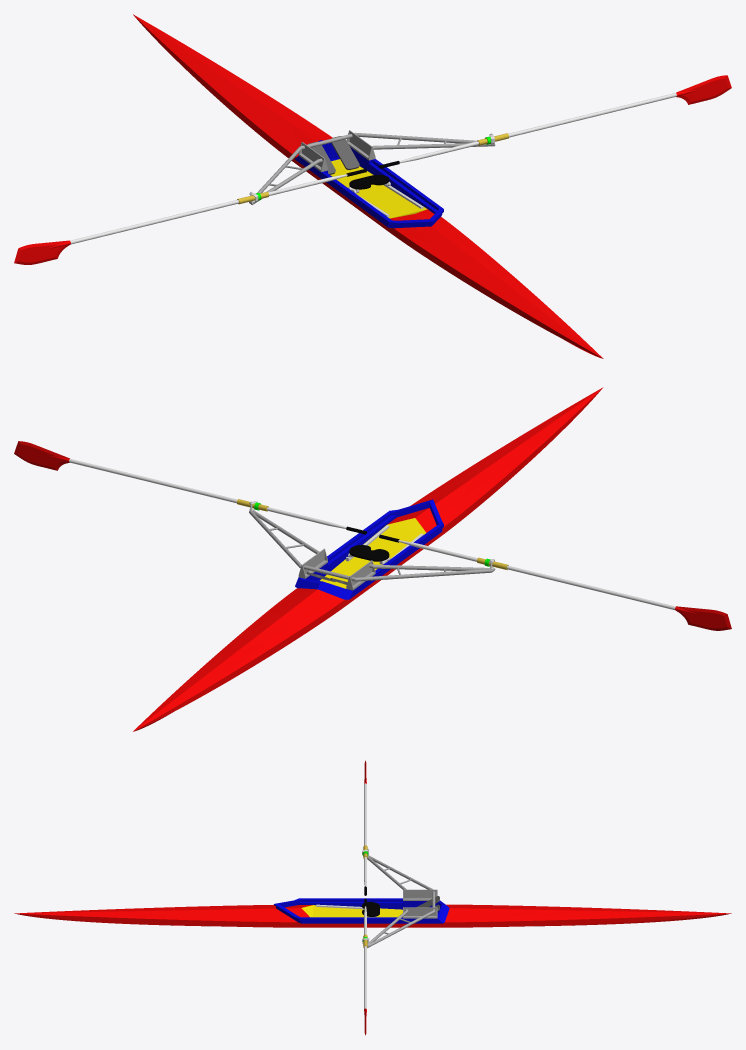
File: Racing Shell.fbx
The picture shows the model from 3 angles, top to bottom: view 1: azimuth 30°, elevation 25°; view 2: azimuth 150°, elevation 25°; view 3: azimuth 270°, elevation 25°; orthographic projection. The views are drawn at different scales.
Visible parts, largest first — view 1: Shell Body, Cockpit Rim, Cockpit Closeout, Oar Brace Starboard, Oar Loom, Oar Loom.001, Oar Brace Port, Oar Blade.001, Oar Blade, Foot Braces; view 2: Shell Body, Cockpit Rim, Cockpit Closeout, Oar Brace Port, Oar Brace Starboard, Oar Loom, Oar Loom.001, Oar Blade.001, Oar Blade; view 3: Shell Body, Cockpit Rim, Oar Brace Port, Cockpit Closeout, Oar Brace Starboard.
Part boxes in pixels (box(x1,y1,x2,y2)): Shell Body: box(133, 14, 603, 358); Cockpit Rim: box(295, 140, 443, 228); Cockpit Closeout: box(330, 159, 427, 218); Oar Brace Starboard: box(328, 130, 495, 160); Oar Loom: box(399, 93, 676, 163); Oar Loom.001: box(70, 174, 347, 244); Oar Brace Port: box(249, 139, 329, 204); Oar Blade.001: box(14, 240, 69, 264); Oar Blade: box(676, 75, 731, 104); Foot Braces: box(308, 136, 359, 174); Shell Body: box(133, 387, 603, 731); Cockpit Rim: box(295, 499, 443, 599); Cockpit Closeout: box(320, 518, 425, 588); Oar Brace Port: box(327, 560, 495, 590); Oar Brace Starboard: box(249, 510, 327, 578); Oar Loom: box(69, 459, 346, 528); Oar Loom.001: box(398, 540, 675, 610); Oar Blade.001: box(676, 606, 731, 630); Oar Blade: box(14, 441, 69, 470); Shell Body: box(14, 904, 731, 927); Cockpit Rim: box(274, 898, 449, 923); Oar Brace Port: box(367, 856, 437, 900); Cockpit Closeout: box(301, 905, 402, 917); Oar Brace Starboard: box(367, 900, 437, 947).
Bounding box in the file's own units: 728 × 45.62 × 828.
